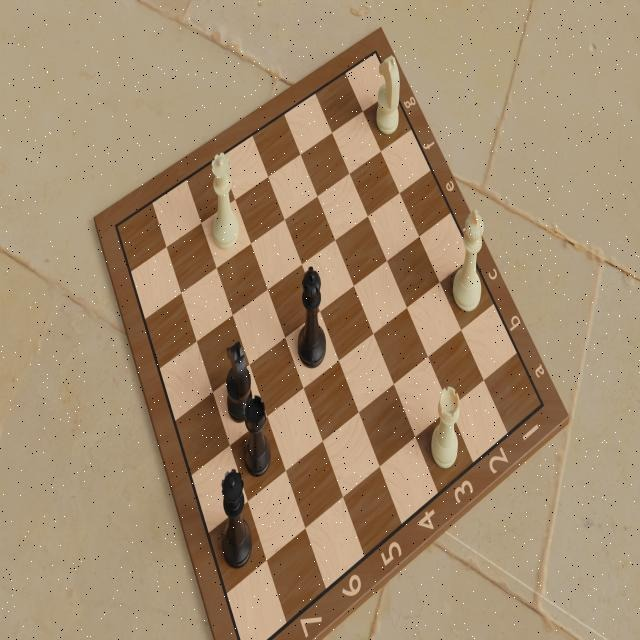black-king: (296, 262, 328, 370)
black-knight: (224, 340, 251, 423)
black-queen: (220, 465, 254, 572)
black-rook: (242, 394, 274, 477)
white-king: (452, 205, 484, 314)
white-knight: (374, 54, 402, 137)
white-queen: (211, 149, 241, 253)
white-rook: (430, 380, 462, 471)
